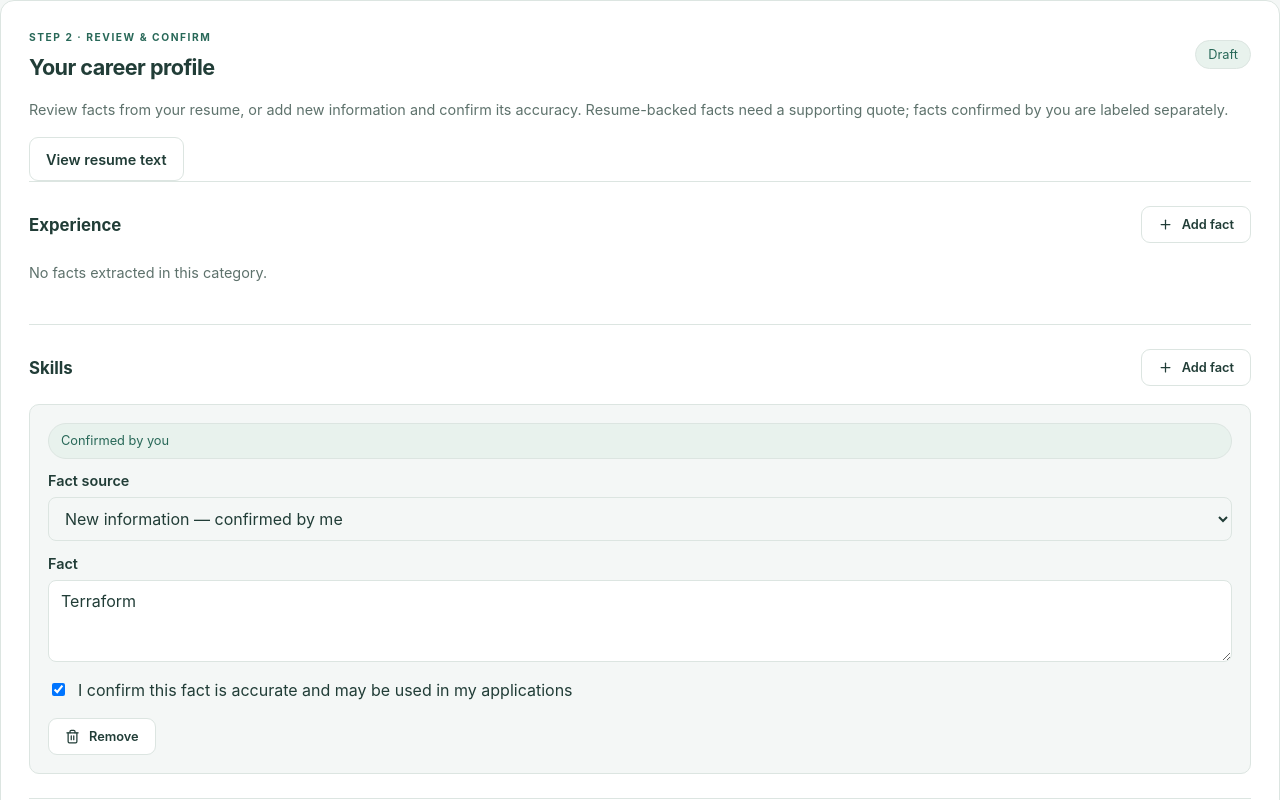
Scenario: requires a fresh accuracy confirmation after editing new information
Type " and Docker" into the text box labelled "Fact".
click(640, 621); type(" and Docker")  # box top-left (48, 580), bottom-right (1232, 662)
(page scrolled)
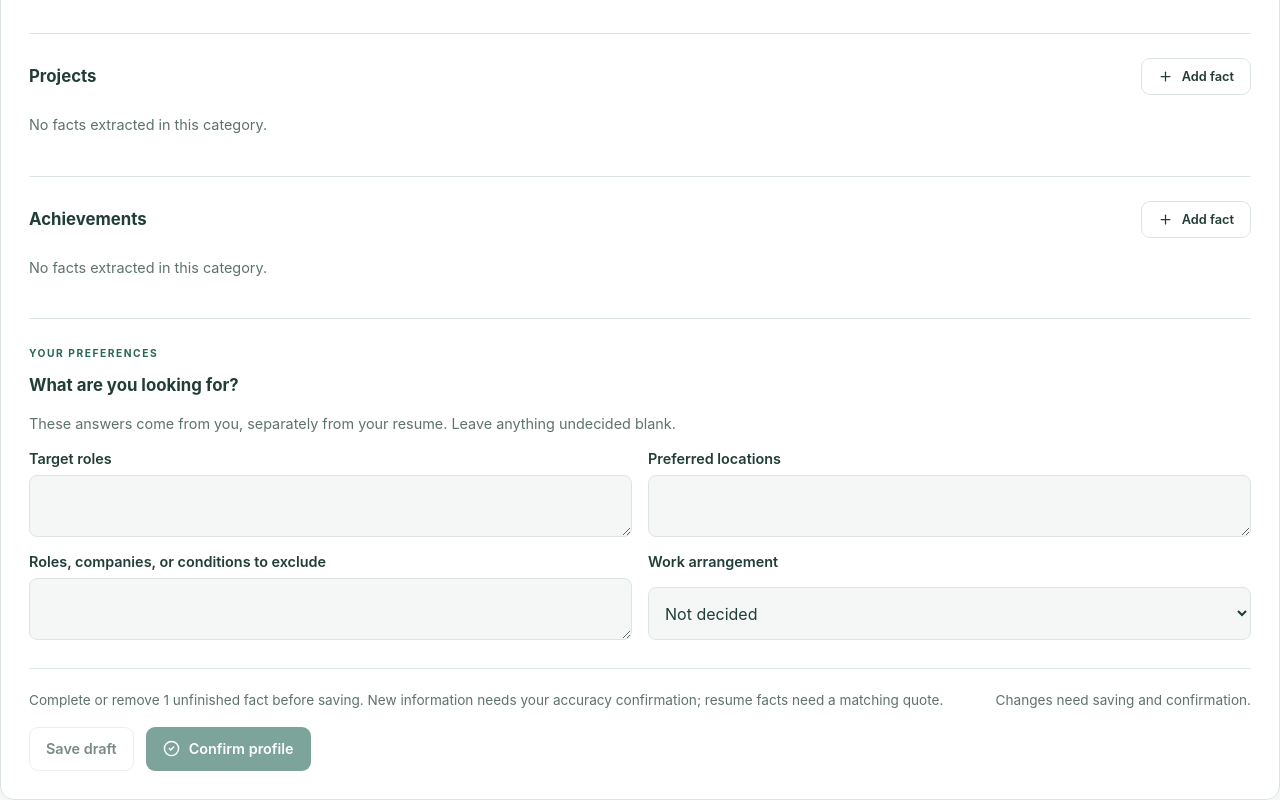
Check: the button "Save draft" is disabled, box top-left (29, 727), bottom-right (134, 771)
